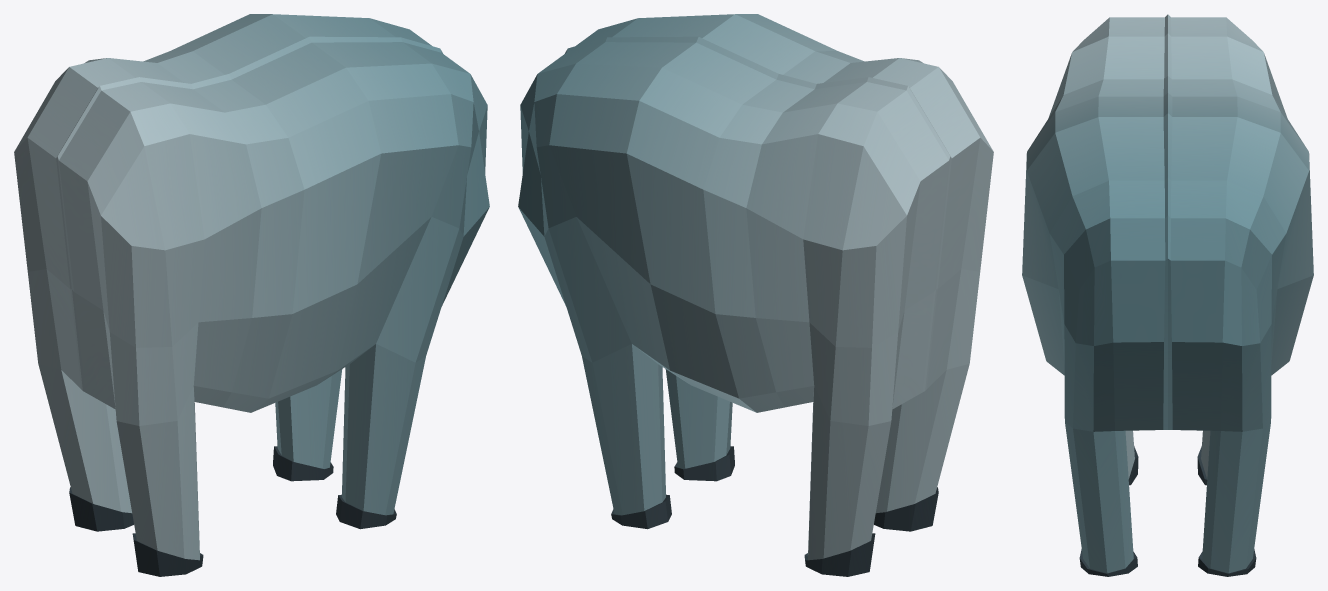
File: Elephant_Body.fbx
3 renders of one model, left to right at view 1: azimuth 30°, elevation 25°; view 2: azimuth 150°, elevation 25°; view 3: azimuth 270°, elevation 25°, orthographic. The views are drawn at different scales.
Parts seen in each view (by area): view 1: elephant_Body; view 2: elephant_Body; view 3: elephant_Body.
Boxes of the visible parts, x1,y1,x2,y2 form: elephant_Body: [14, 14, 489, 576]; elephant_Body: [518, 14, 993, 576]; elephant_Body: [1022, 14, 1313, 576].
Bounding box in the file's own units: 112 × 124 × 73.98.
